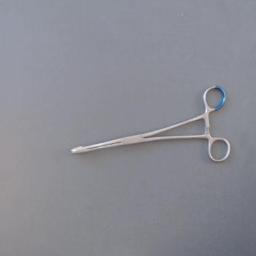Sponge Forceps: (67, 82, 233, 168)
